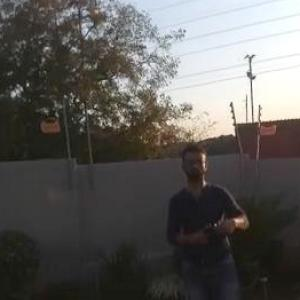follow: (156, 135, 253, 299)
